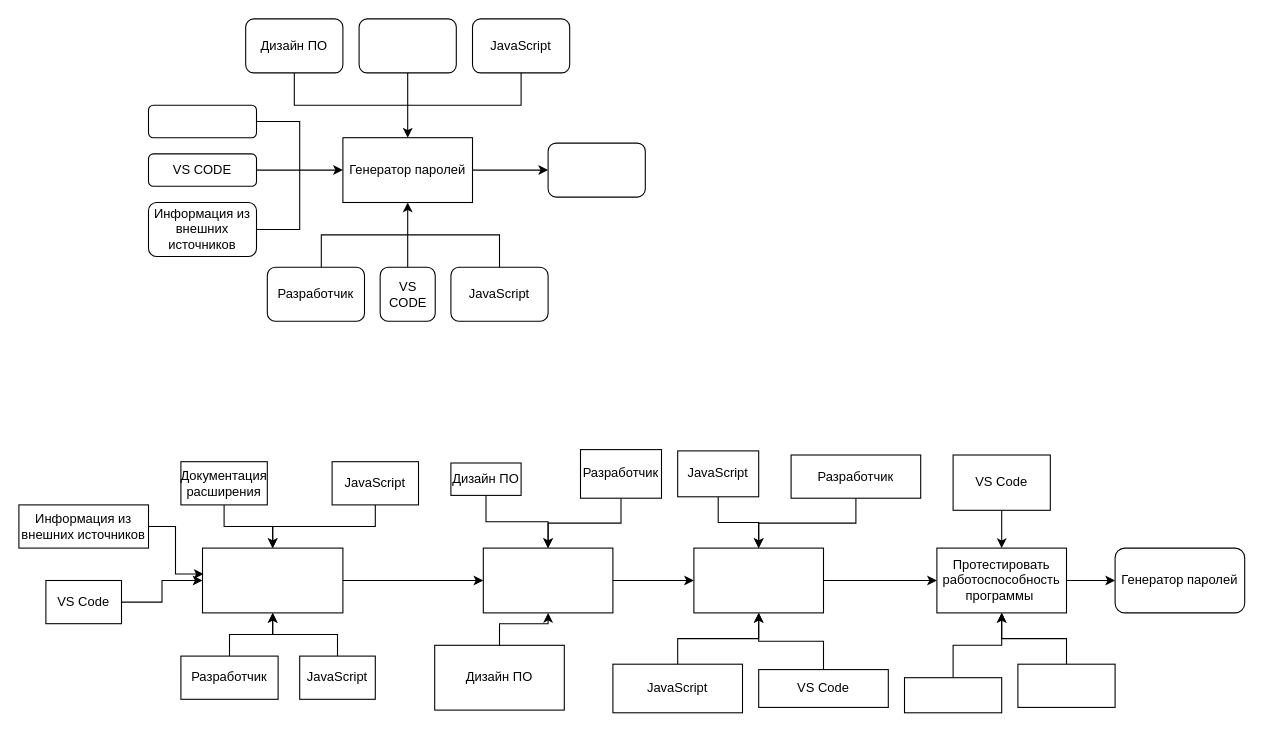
Some shapes in this 1264 by 732 pixel diagram are drawn without their labels. Each missing label, with the box of its shape:
Документация библиотеки: (358, 18, 456, 73)
ОПЫТ: (147, 104, 256, 138)
ПК с ОС: (903, 677, 1002, 713)
Подключить расширения: (201, 547, 343, 613)
Сгенерировать пароль: (547, 142, 645, 197)
Создать интерфейс: (482, 547, 613, 613)
Создать логику и подключить генерацию паролей: (693, 547, 824, 613)
тестировщик: (1017, 663, 1115, 707)
